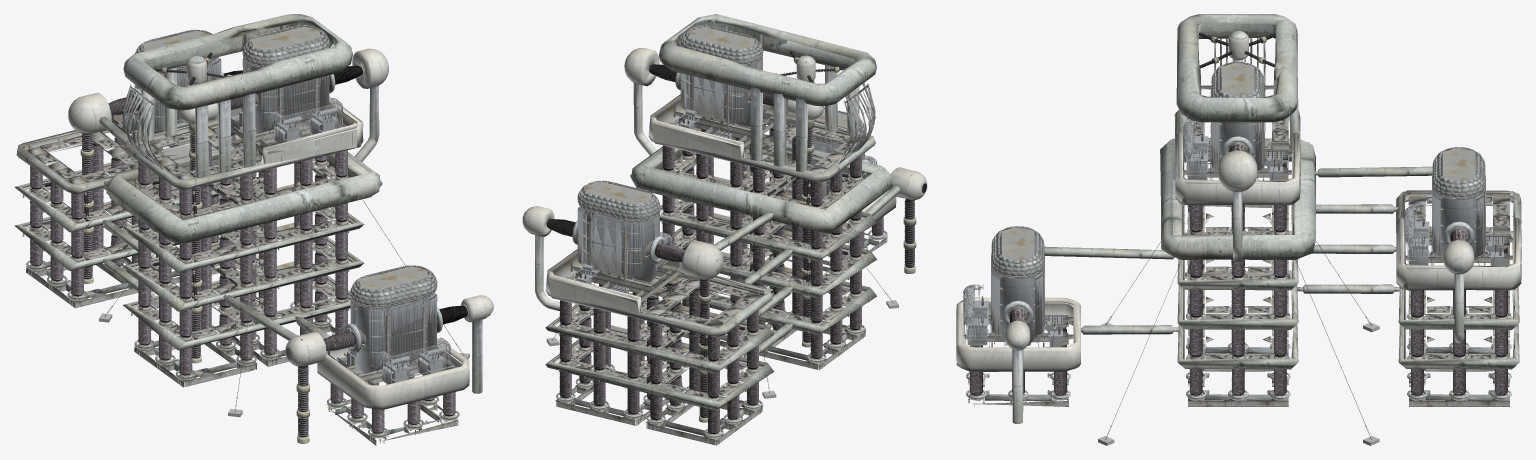
File: transformer-2250kv-v20260922b.glb
3 views of the same model, side by side, from view 1: azimuth 30°, elevation 25°; view 2: azimuth 150°, elevation 25°; view 3: azimuth 270°, elevation 25° (orthographic). The views are drawn at different scales.
Parts seen in each view (by area): view 1: 2250kV工频实验变压器0030, 2250kV工频实验变压器0029, 2250kV工频实验变压器0025, 2250kV工频实验变压器0019, 2250kV工频实验变压器0032, 2250kV工频实验变压器0018, 2250kV工频实验变压器0021, 2250kV工频实验变压器0027, 2250kV工频实验变压器0024, 2250kV工频实验变压器0028, 2250kV工频实验变压器0050, 2250kV工频实验变压器0057 (+30 smaller); view 2: 2250kV工频实验变压器0030, 2250kV工频实验变压器0029, 2250kV工频实验变压器0021, 2250kV工频实验变压器0025, 2250kV工频实验变压器0017, 2250kV工频实验变压器0018, 2250kV工频实验变压器0020, 2250kV工频实验变压器0023, 2250kV工频实验变压器0028, 2250kV工频实验变压器0050, 2250kV工频实验变压器0027, 2250kV工频实验变压器0034 (+28 smaller); view 3: 2250kV工频实验变压器0030, 2250kV工频实验变压器0029, 2250kV工频实验变压器0021, 2250kV工频实验变压器0025, 2250kV工频实验变压器0032, 2250kV工频实验变压器0019, 2250kV工频实验变压器0017, 2250kV工频实验变压器0024, 2250kV工频实验变压器0018, 2250kV工频实验变压器0020, 2250kV工频实验变压器0027, 2250kV工频实验变压器0008 (+30 smaller).
Boxes of the visible parts, x1,y1,x2,y2 form: 2250kV工频实验变压器0030: [122, 14, 353, 178]; 2250kV工频实验变压器0029: [105, 133, 382, 243]; 2250kV工频实验变压器0025: [124, 97, 363, 189]; 2250kV工频实验变压器0019: [350, 266, 437, 373]; 2250kV工频实验变压器0032: [317, 338, 469, 410]; 2250kV工频实验变压器0018: [242, 26, 329, 133]; 2250kV工频实验变压器0021: [16, 112, 241, 193]; 2250kV工频实验变压器0027: [123, 222, 363, 311]; 2250kV工频实验变压器0024: [123, 261, 350, 350]; 2250kV工频实验变压器0028: [122, 184, 364, 272]; 2250kV工频实验变压器0050: [68, 88, 141, 283]; 2250kV工频实验变压器0057: [285, 323, 366, 443]; 2250kV工频实验变压器0030: [659, 14, 876, 172]; 2250kV工频实验变压器0029: [630, 127, 892, 233]; 2250kV工频实验变压器0021: [545, 249, 772, 336]; 2250kV工频实验变压器0025: [648, 94, 875, 182]; 2250kV工频实验变压器0017: [577, 181, 660, 283]; 2250kV工频实验变压器0018: [680, 27, 762, 129]; 2250kV工频实验变压器0020: [545, 325, 774, 410]; 2250kV工频实验变压器0023: [545, 292, 774, 373]; 2250kV工频实验变压器0028: [660, 176, 876, 261]; 2250kV工频实验变压器0050: [645, 236, 723, 422]; 2250kV工频实验变压器0027: [674, 213, 876, 298]; 2250kV工频实验变压器0034: [555, 369, 763, 445]; 2250kV工频实验变压器0030: [1176, 14, 1298, 147]; 2250kV工频实验变压器0029: [1160, 138, 1315, 259]; 2250kV工频实验变压器0021: [1396, 190, 1521, 290]; 2250kV工频实验变压器0025: [1174, 110, 1300, 205]; 2250kV工频实验变压器0032: [956, 297, 1080, 371]; 2250kV工频实验变压器0019: [991, 227, 1044, 345]; 2250kV工频实验变压器0017: [1432, 148, 1485, 260]; 2250kV工频实验变压器0024: [1177, 270, 1298, 369]; 2250kV工频实验变压器0018: [1210, 62, 1265, 173]; 2250kV工频实验变压器0020: [1398, 289, 1519, 369]; 2250kV工频实验变压器0027: [1177, 231, 1298, 329]; 2250kV工频实验变压器0008: [1217, 136, 1257, 261].
Size of the model in its own units: 15.55 by 16.38 by 26.94.
26 materials, 26 textured.
